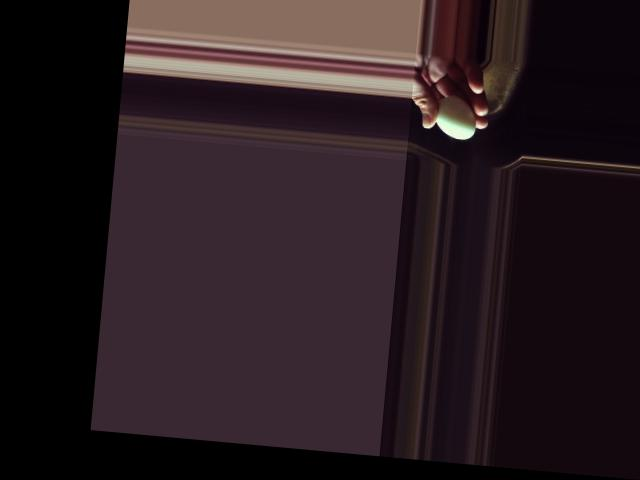egg: (434, 94, 478, 140)
